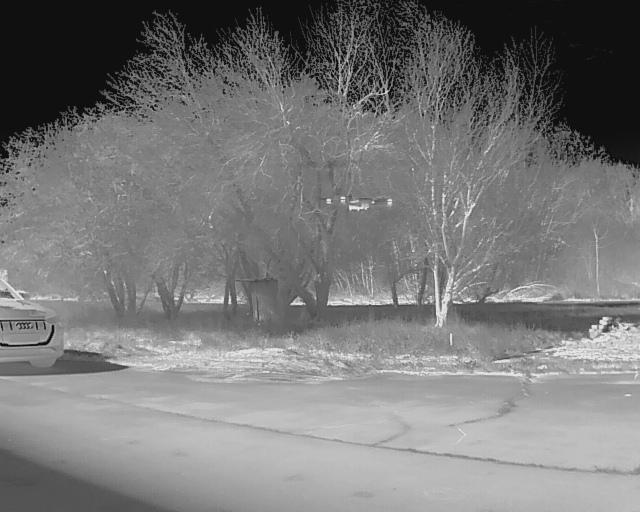drone: (312, 184, 401, 226)
